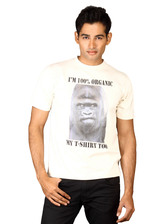clothoes: (24, 53, 141, 181)
